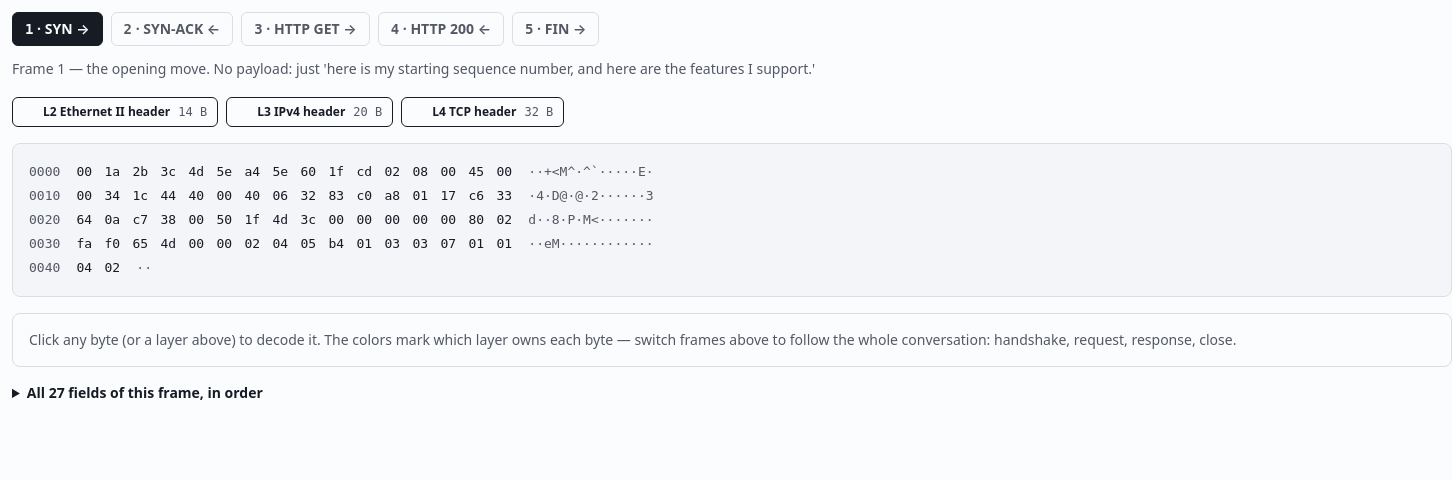
Test case: PacketWalkthrough › decodes the SYN's MSS option with its layer tag
The width and height of the screenshot is (1452, 480).
Click the button "02" in the row of "0030" at point(252, 244), box [240,232,264,256]
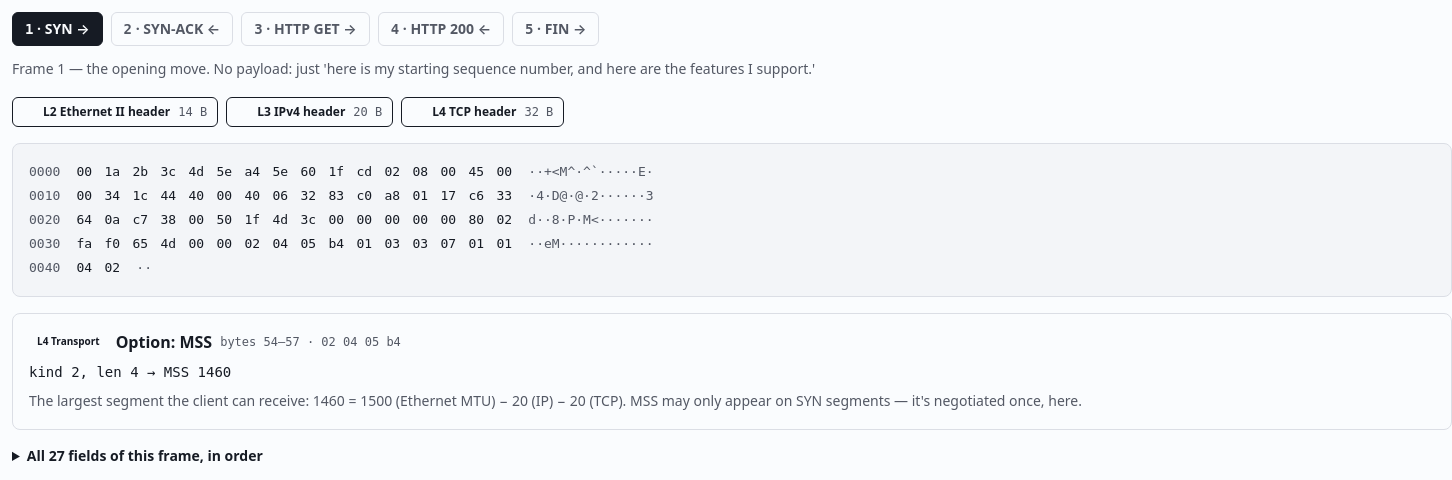
Now the text "Option: MSS" is shown, box [116,330,212,354]
Now the text "kind 2, len 4 → MSS 1460" is shown, box [29,364,231,380]
Now the text "L4 Transport" is shown, box [37,334,100,348]
